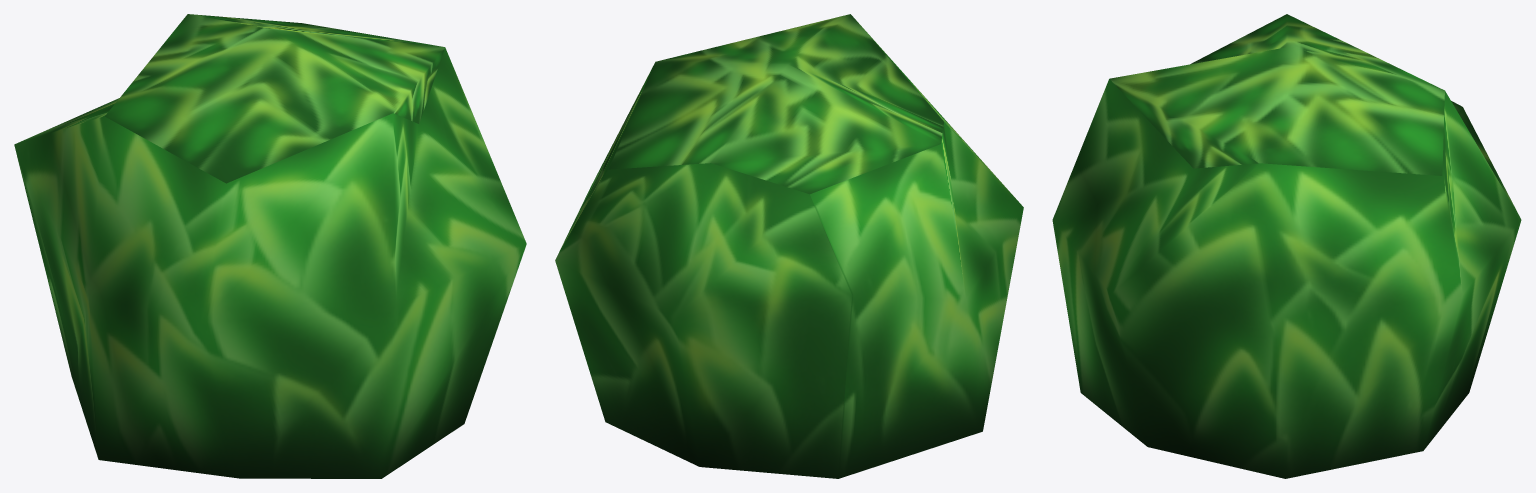
Rendered from mesh_Bush.fbx.
The picture shows the model from 3 angles, left to right: view 1: azimuth 30°, elevation 25°; view 2: azimuth 150°, elevation 25°; view 3: azimuth 270°, elevation 25°; orthographic projection. The views are drawn at different scales.
Parts seen in each view (by area): view 1: mesh_Bush; view 2: mesh_Bush; view 3: mesh_Bush.
Boxes of the visible parts, <box> form: mesh_Bush: <box>14,14,526,478</box>; mesh_Bush: <box>555,14,1023,478</box>; mesh_Bush: <box>1052,14,1521,478</box>.
Size of the model in its own units: 116 by 100 by 123.
